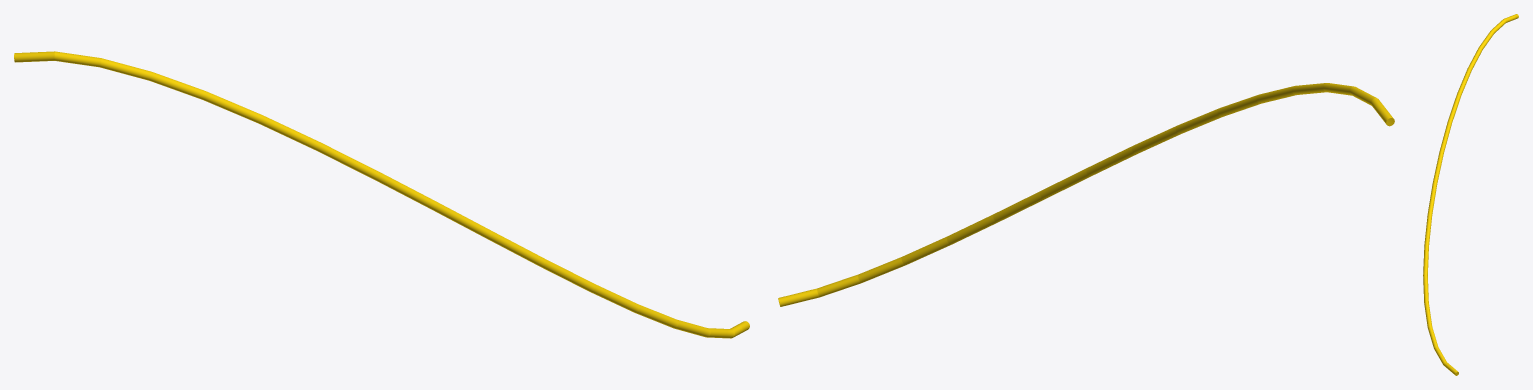
Rendered from Event_420094457_track_53.fbx.
3 renders of one model, left to right at view 1: azimuth 30°, elevation 25°; view 2: azimuth 150°, elevation 25°; view 3: azimuth 270°, elevation 25°, orthographic. The views are drawn at different scales.
Parts seen in each view (by area): view 1: Model; view 2: Model; view 3: Model.
Boxes of the visible parts, <box> form: Model: <box>14,51,749,338</box>; Model: <box>778,83,1394,306</box>; Model: <box>1423,14,1518,375</box>.
Bounding box in the file's own units: 3.31 × 1.87 × 0.8119.
